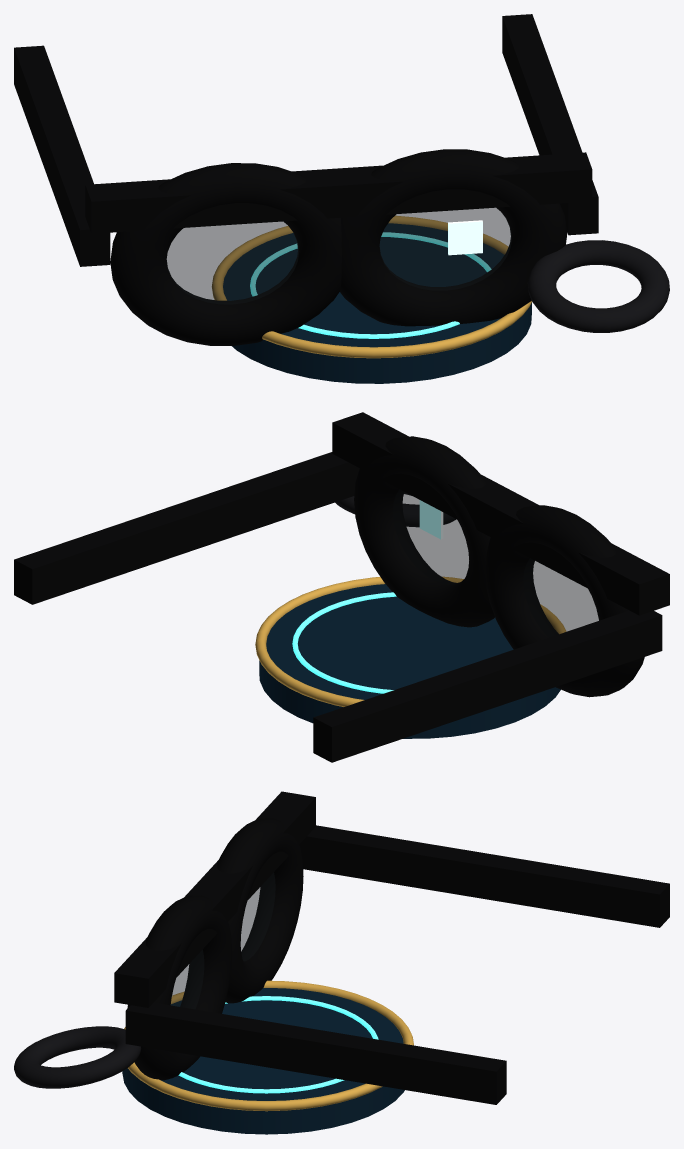
Rendered from plugin-mvmrf062-xopn.glb.
3 renders of one model, top to bottom at view 1: azimuth 30°, elevation 25°; view 2: azimuth 150°, elevation 25°; view 3: azimuth 270°, elevation 25°, orthographic. The views are drawn at different scales.
Visible parts, largest first — view 1: part (×12); view 2: part (×12); view 3: part (×11).
Part boxes in pixels (x1,y1,x2,y2): part (×12): (14,14,669,383); part (×12): (14,412,669,762); part (×11): (14,791,669,1134).
Bounding box in the file's own units: 0.695 × 0.2311 × 0.7734.
